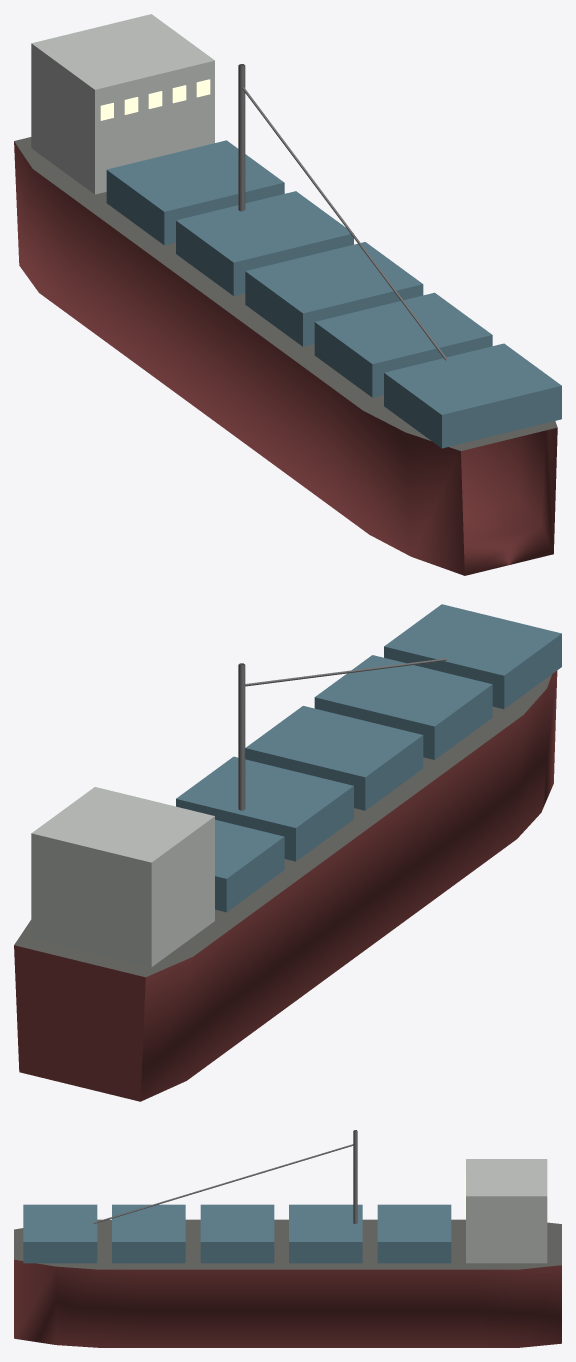
Rendered from ship.glb.
3 renders of one model, top to bottom at view 1: azimuth 30°, elevation 25°; view 2: azimuth 150°, elevation 25°; view 3: azimuth 270°, elevation 25°, orthographic. The views are drawn at different scales.
Parts seen in each view (by area): view 1: Ship; view 2: Ship; view 3: Ship.
Part boxes in pixels (left/top/right/bottom): Ship: left=14, top=14, right=561, bottom=575; Ship: left=14, top=604, right=561, bottom=1101; Ship: left=14, top=1130, right=561, bottom=1347.
Bounding box in the file's own units: 16.04 × 29 × 74.29.
